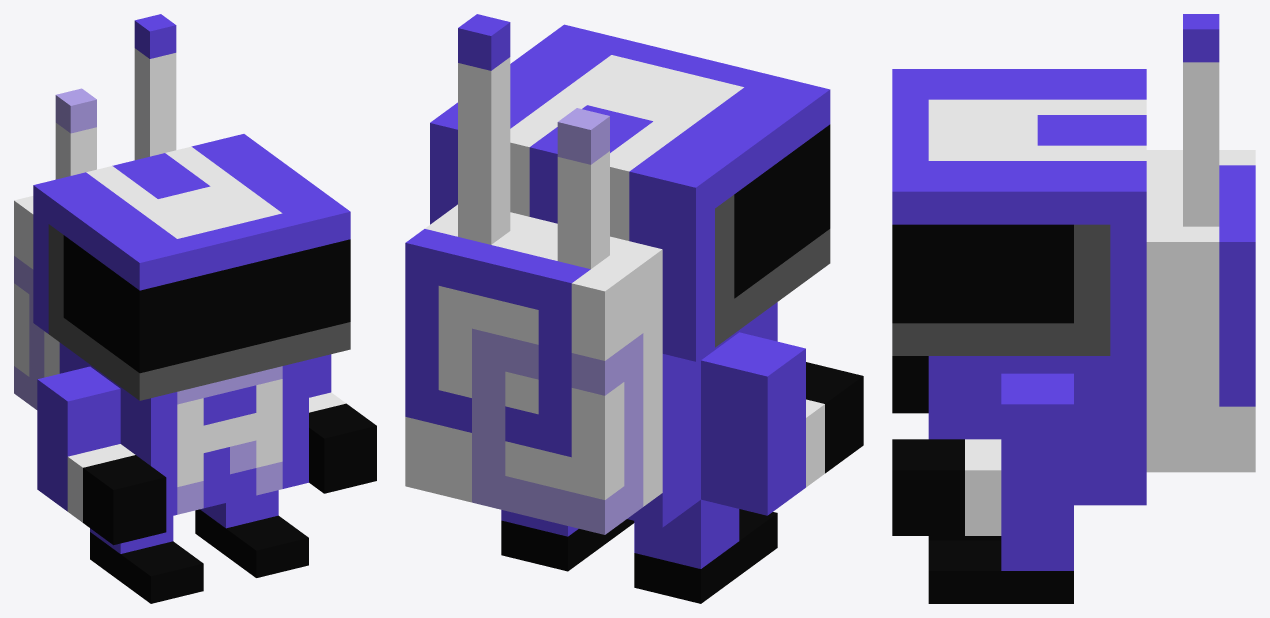
File: avatar_MetacubeHR.gltf
3 views of the same model, side by side, from view 1: azimuth 30°, elevation 25°; view 2: azimuth 150°, elevation 25°; view 3: azimuth 270°, elevation 25° (orthographic). The views are drawn at different scales.
Parts seen in each view (by area): view 1: HR_avatar_head, HR_avatar_body, HR_avatar_rightarm, HR_avatar_leftarm, HR_avatar_leftfeet, HR_avatar_rightfeet; view 2: HR_avatar_body, HR_avatar_head, HR_avatar_rightarm, HR_avatar_rightfeet, HR_avatar_leftfeet; view 3: HR_avatar_head, HR_avatar_body, HR_avatar_leftarm, HR_avatar_leftfeet, HR_avatar_rightarm.
Boxes of the visible parts, <box> form: HR_avatar_head: <box>33,134,350,400</box>; HR_avatar_body: <box>14,14,308,517</box>; HR_avatar_rightarm: <box>37,366,166,545</box>; HR_avatar_leftarm: <box>309,354,376,493</box>; HR_avatar_leftfeet: <box>195,490,308,577</box>; HR_avatar_rightfeet: <box>90,516,203,603</box>; HR_avatar_body: <box>405,14,777,534</box>; HR_avatar_head: <box>430,24,830,361</box>; HR_avatar_rightarm: <box>701,332,863,515</box>; HR_avatar_rightfeet: <box>634,499,777,603</box>; HR_avatar_leftfeet: <box>501,510,634,571</box>; HR_avatar_head: <box>892,69,1146,355</box>; HR_avatar_body: <box>928,14,1255,505</box>; HR_avatar_leftarm: <box>892,373,1073,535</box>; HR_avatar_leftfeet: <box>928,536,1073,603</box>; HR_avatar_rightarm: <box>892,356,928,413</box>.
Bounding box in the file's own units: 1 × 1.7 × 1.
Materials: 6 (6 with a texture image).
